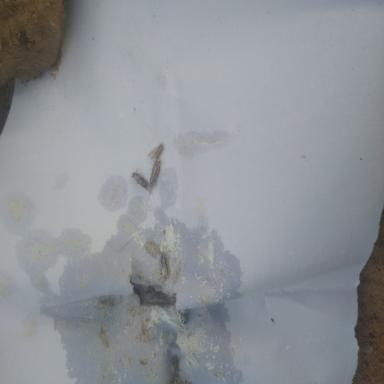pbw: (131, 168, 151, 193), (149, 158, 161, 189), (159, 252, 170, 280), (147, 144, 163, 160), (146, 241, 158, 257)
